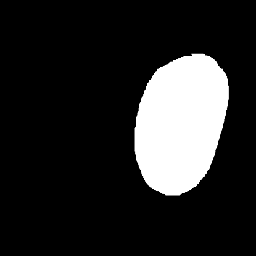mass: (141, 57, 222, 187)
